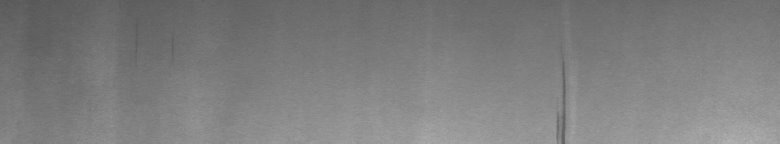hd: (553, 61, 573, 136)
